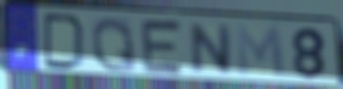8: (291, 26, 329, 81)
D: (41, 11, 88, 72)
E: (139, 18, 186, 77)
M: (233, 23, 288, 80)
N: (189, 21, 234, 75)
Q: (90, 15, 138, 74)
